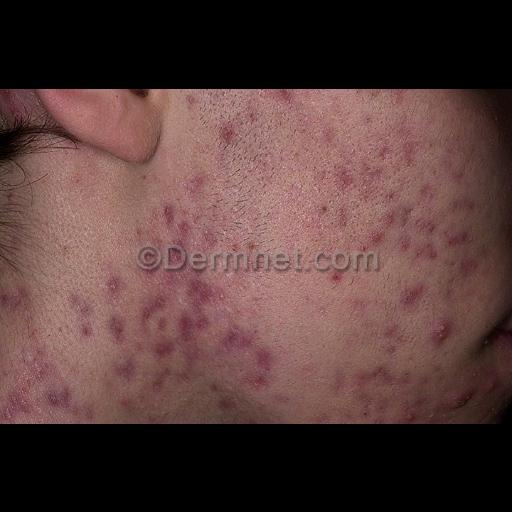Skin_Lesion: (358, 142, 484, 268), (346, 365, 426, 423), (144, 200, 216, 254), (13, 351, 65, 407), (444, 366, 494, 414), (184, 272, 230, 322), (142, 282, 172, 334), (226, 321, 256, 361), (68, 296, 96, 336), (166, 164, 208, 190), (114, 358, 146, 388), (395, 276, 423, 310), (428, 312, 454, 348), (107, 310, 131, 348), (324, 266, 350, 290), (218, 120, 242, 144), (102, 269, 124, 295)
